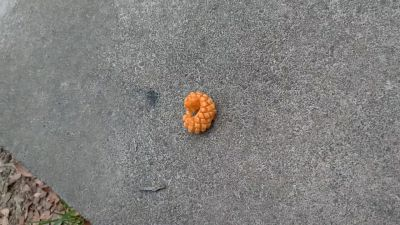eggs: (182, 91, 219, 135)
